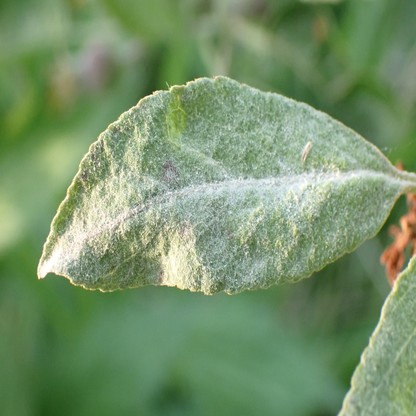powdery_mildew: (36, 76, 404, 293), (340, 257, 416, 416)
